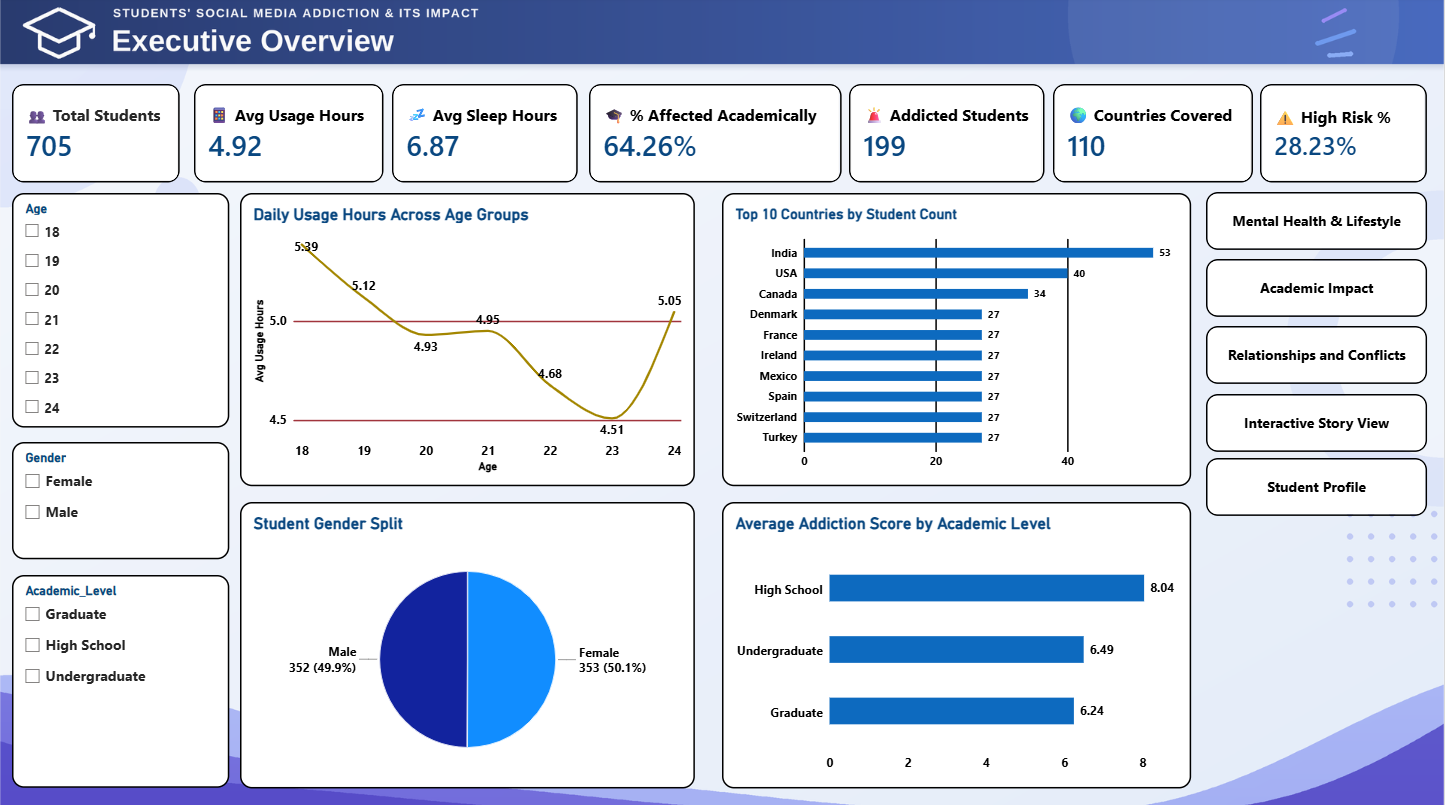

The dashboard page shown, as its layout file describes it:
{"tool":"powerbi","page":{"name":"Executive Overview","canvas":[1920,1080],"ordinal":0},"visuals":[{"type":"cardVisual","fields":{"Data":["CountNonNull(Student Details.Student_ID)"]},"box":[16,115.3,223.2,131.3],"z":0},{"type":"cardVisual","fields":{"Data":["_Measures.Avg Sleep Hours"]},"box":[520.9,115.3,246.6,131.3],"z":1000},{"type":"cardVisual","fields":{"Data":["_Measures.% Affected Academically"]},"box":[783.5,115.3,335.6,131.3],"z":2000},{"type":"cardVisual","fields":{"Data":["_Measures.Avg Usage Hours"]},"box":[258.2,115.3,252.4,131.3],"z":3000},{"type":"lineChart","title":"Daily Usage Hours Across Age Groups","fields":{"Category":["Student Details.Age"],"Y":["_Measures.Avg Usage Hours"]},"box":[319.5,261.2,605.5,389.5],"z":4000},{"type":"pieChart","title":"Student Gender Split","fields":{"Category":["Student Details.Gender"],"Y":["CountNonNull(Student Details.Student_ID)"]},"box":[319.5,671.1,605.5,380.8],"z":5000},{"type":"clusteredBarChart","title":"Average Addiction Score by Academic Level","fields":{"Category":["Student Details.Academic_Level"],"Y":["Avg(Student Details.Addicted_Score)"]},"box":[960,671.1,624.4,380.8],"z":6000},{"type":"actionButton","box":[1603.4,259.7,294.3,77],"z":7000},{"type":"actionButton","box":[1603.4,348.7,294.3,77],"z":8000},{"type":"actionButton","box":[1603.4,437.7,294.3,77],"z":9000},{"type":"actionButton","box":[1603.4,528.1,294.3,77],"z":10000},{"type":"actionButton","box":[1603.4,612.8,294.3,77],"z":11000},{"type":"cardVisual","fields":{"Data":["_Measures.Countries Covered"]},"box":[1400.6,115.3,265.5,131.3],"z":12000},{"type":"cardVisual","fields":{"Data":["_Measures.Addicted Student Count"]},"box":[1129.2,115.3,259.7,131.3],"z":13000},{"type":"cardVisual","fields":{"Data":["_Measures.High Risk %"]},"box":[1676.4,115.3,221.8,131.3],"z":14000},{"type":"clusteredBarChart","title":"Top 10 Countries by Student Count","fields":{"Category":["Student Details.Country"],"Y":["CountNonNull(Student Details.Student_ID)"]},"box":[960,261.2,624.4,389.5],"z":15000},{"type":"slicer","fields":{"Values":["Student Details.Age"]},"box":[16,261.2,288.9,312.2],"z":16000},{"type":"slicer","fields":{"Values":["Student Details.Gender"]},"box":[16,592.3,288.9,156.1],"z":17000},{"type":"slicer","fields":{"Values":["Student Details.Academic_Level"]},"box":[16,768.9,288.9,283],"z":18000}]}

Visuals, with their boxes in screenshot pixels (x1, y1, x2, y2), scaled from the page's 1920x1080 canvas onto the 1445x805 screenshot:
cardVisual - CountNonNull(Student Details.Student_ID): l=12, t=86, r=180, b=184
cardVisual - _Measures.Avg Sleep Hours: l=392, t=86, r=578, b=184
cardVisual - _Measures.% Affected Academically: l=590, t=86, r=842, b=184
cardVisual - _Measures.Avg Usage Hours: l=194, t=86, r=384, b=184
"Daily Usage Hours Across Age Groups" lineChart: l=240, t=195, r=696, b=485
"Student Gender Split" pieChart: l=240, t=500, r=696, b=784
"Average Addiction Score by Academic Level" clusteredBarChart: l=722, t=500, r=1192, b=784
actionButton: l=1207, t=194, r=1428, b=251
actionButton: l=1207, t=260, r=1428, b=317
actionButton: l=1207, t=326, r=1428, b=384
actionButton: l=1207, t=394, r=1428, b=451
actionButton: l=1207, t=457, r=1428, b=514
cardVisual - _Measures.Countries Covered: l=1054, t=86, r=1254, b=184
cardVisual - _Measures.Addicted Student Count: l=850, t=86, r=1045, b=184
cardVisual - _Measures.High Risk %: l=1262, t=86, r=1429, b=184
"Top 10 Countries by Student Count" clusteredBarChart: l=722, t=195, r=1192, b=485
slicer - Student Details.Age: l=12, t=195, r=229, b=427
slicer - Student Details.Gender: l=12, t=441, r=229, b=558
slicer - Student Details.Academic_Level: l=12, t=573, r=229, b=784
